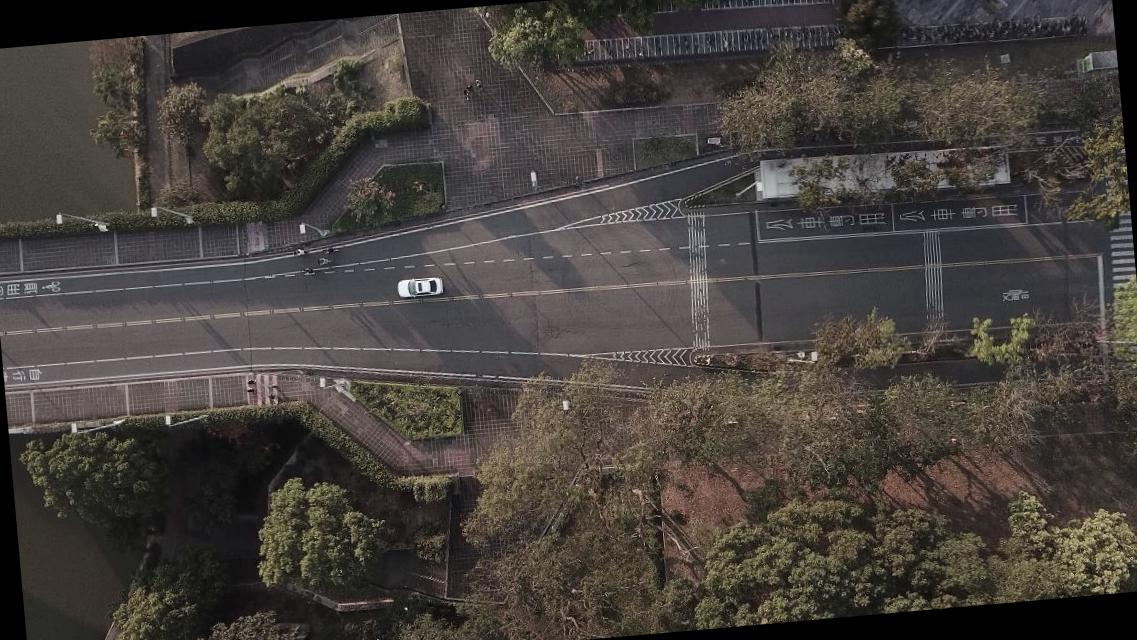vehicle: (396, 276, 443, 299)
